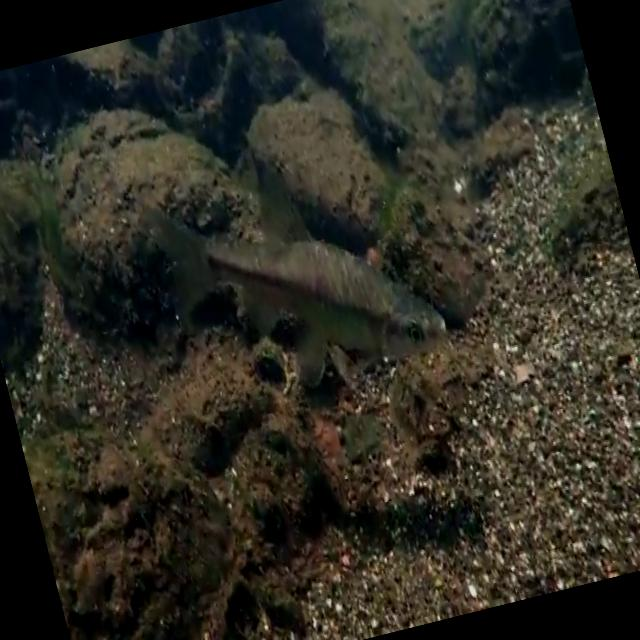Cakil Baligi: (128, 121, 454, 422)
